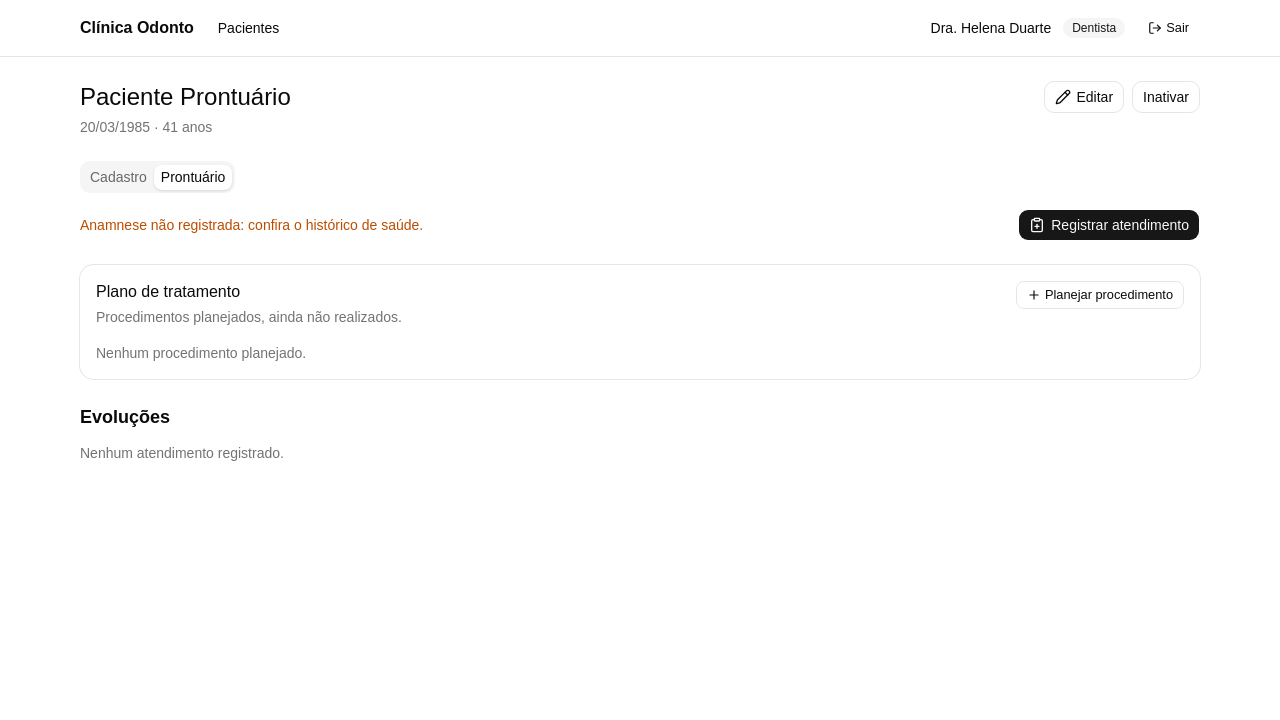
plano de tratamento › "Ambas as arcadas" gera um item por arcada numa única ação
Click the button "Planejar procedimento" at (1100, 295), box [1016,281,1184,309]
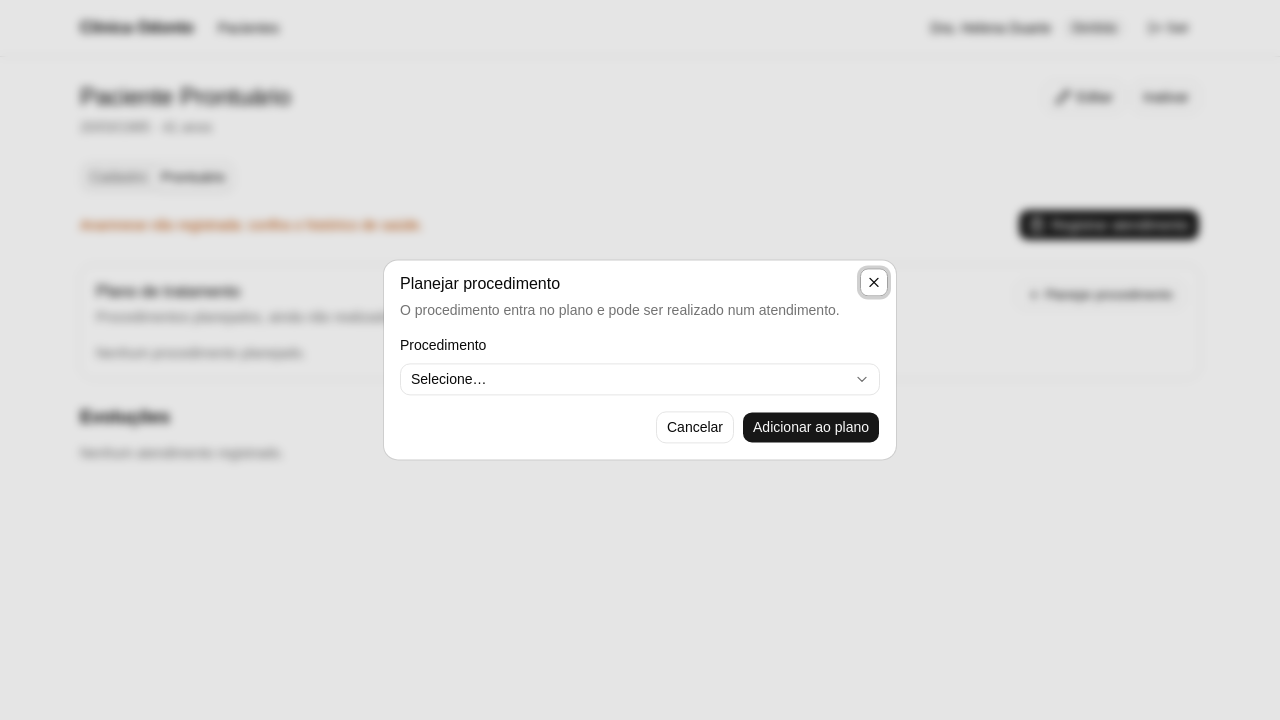
Select "Raspagem supragengival" in the dropdown labelled "Procedimento" at (640, 380), box [400,364,880,396]
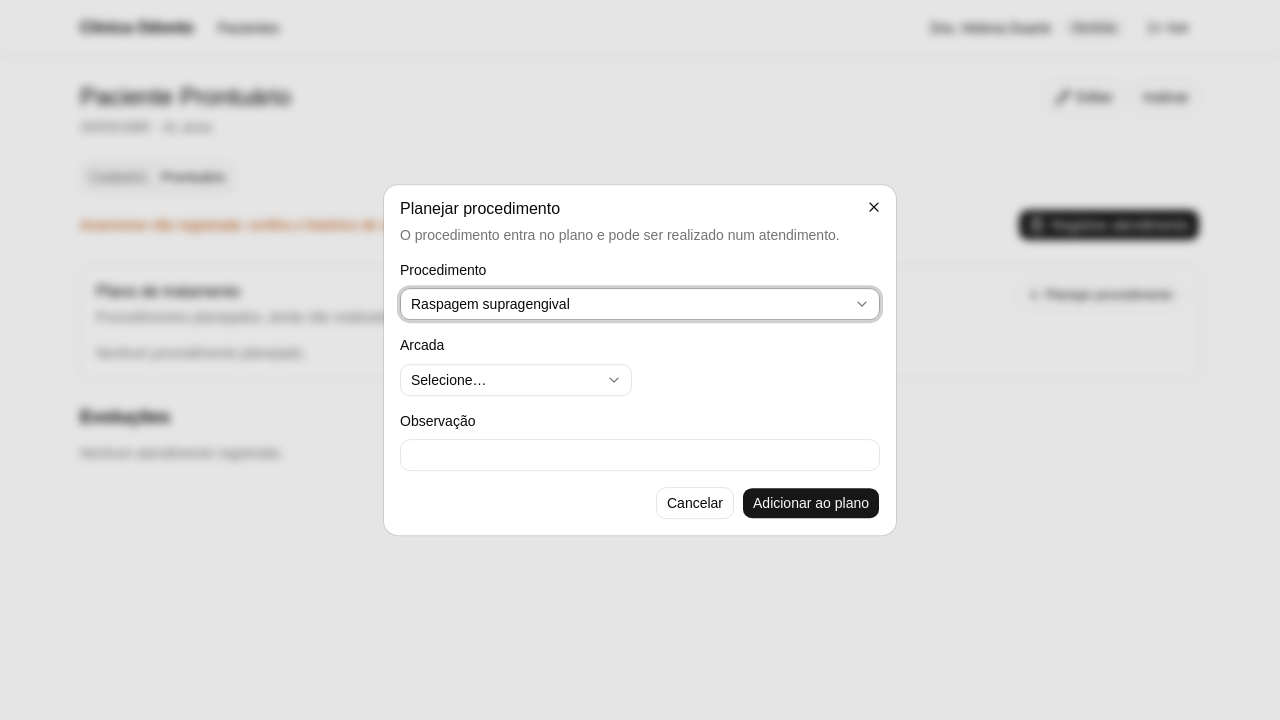
Select "Ambas as arcadas" in the dropdown labelled "Arcada" at (516, 380), box [400,364,632,396]
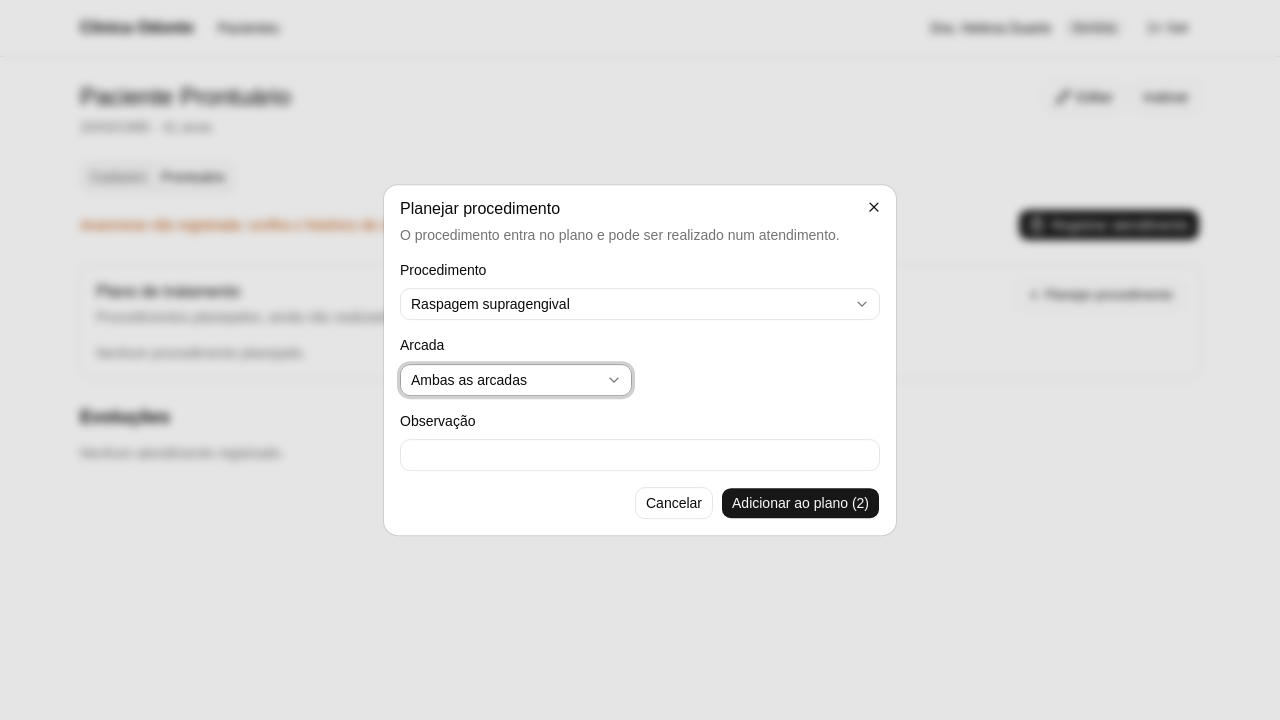
Click the button "Adicionar ao plano (2)" at (800, 503), box [721,487,880,519]
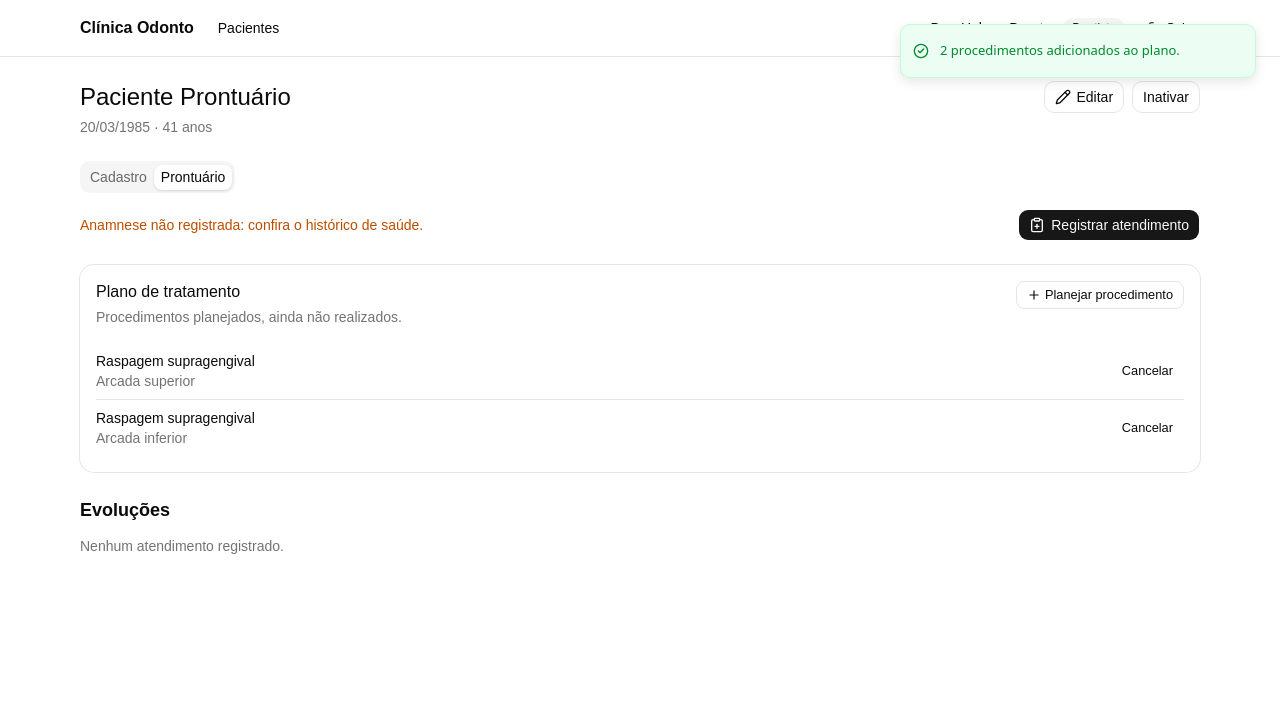
Now the list named "Procedimentos planejados" shows "Arcada superior", box [96,373,195,389]
Now the list named "Procedimentos planejados" shows "Arcada inferior", box [96,430,187,446]
